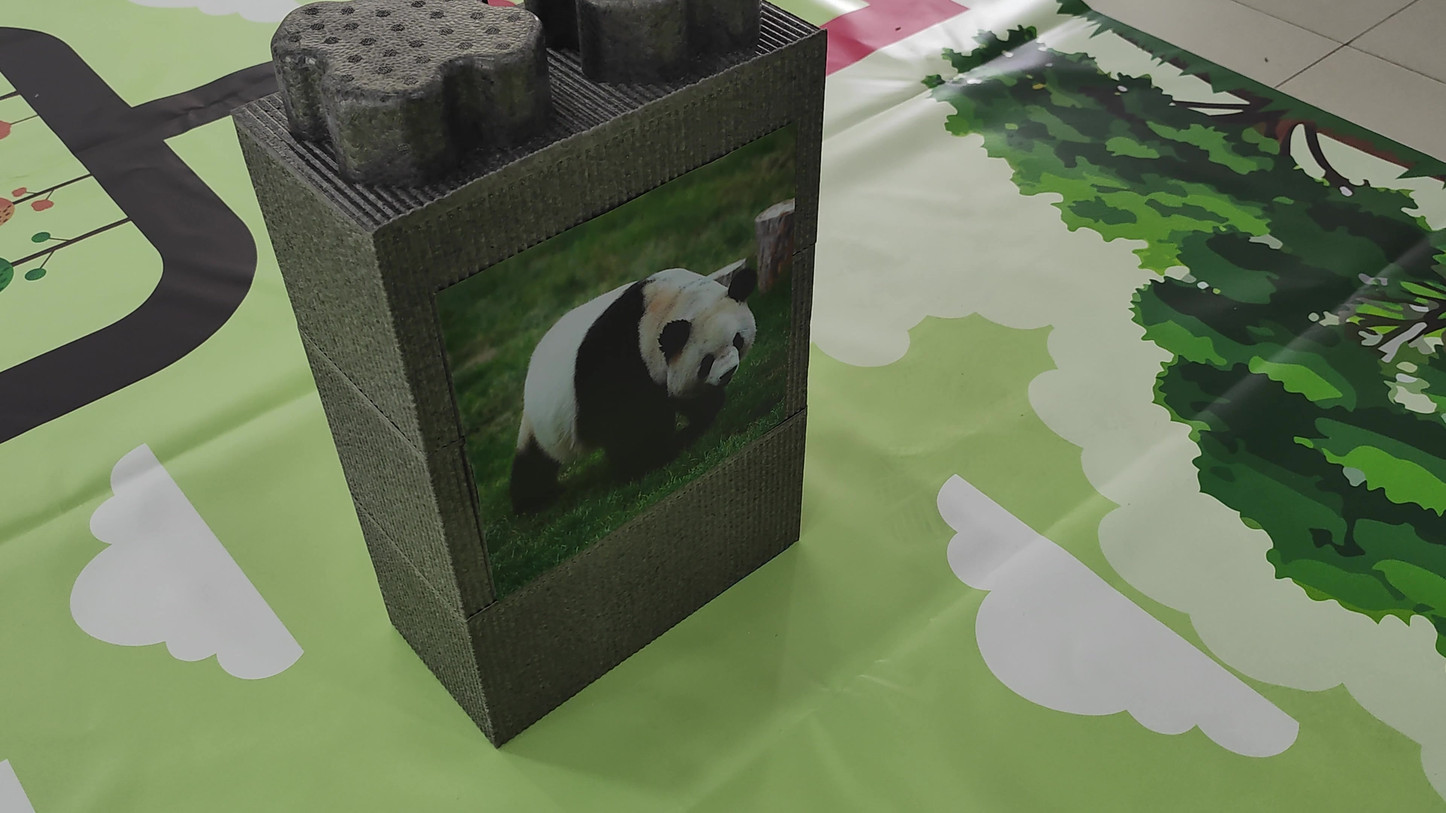panda: (469, 204, 775, 520)
